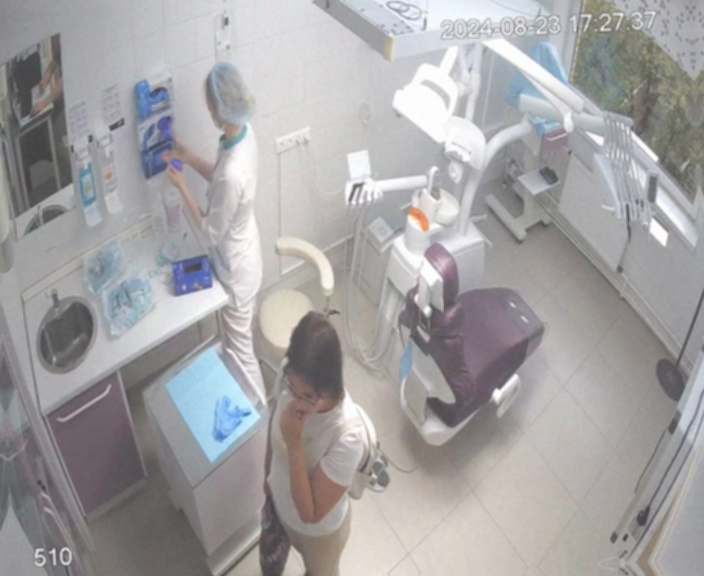Empty: (385, 236, 550, 448)
